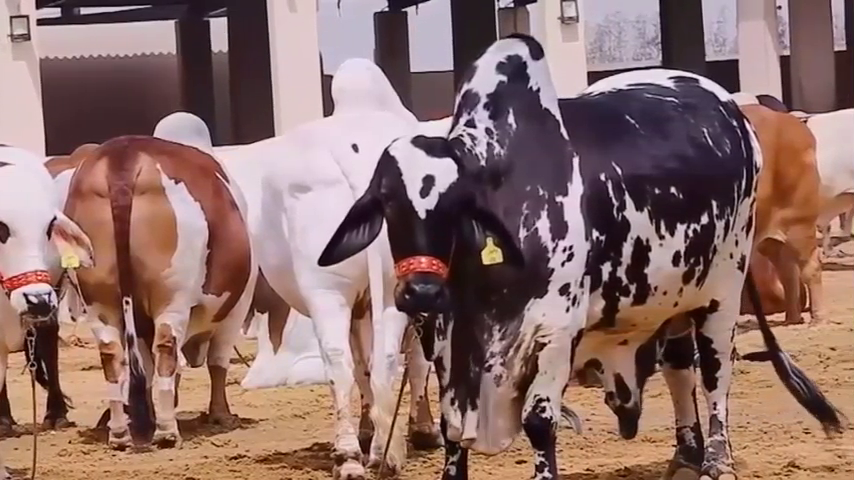bo: (319, 24, 851, 476), (233, 40, 462, 476), (66, 109, 262, 462), (1, 142, 94, 468), (719, 82, 828, 330), (762, 80, 853, 210)
